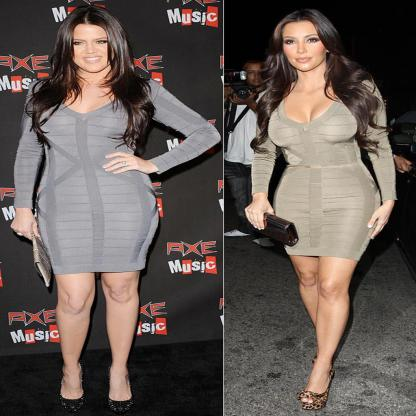face: (64, 22, 117, 73), (282, 21, 327, 72), (243, 64, 269, 89)
